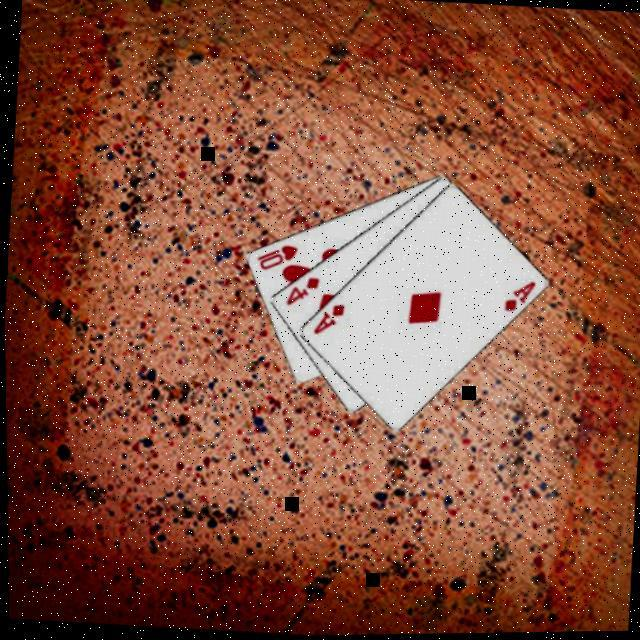10H: (250, 242, 298, 278)
4D: (279, 274, 319, 313)
AD: (306, 302, 345, 342), (497, 279, 536, 319)
